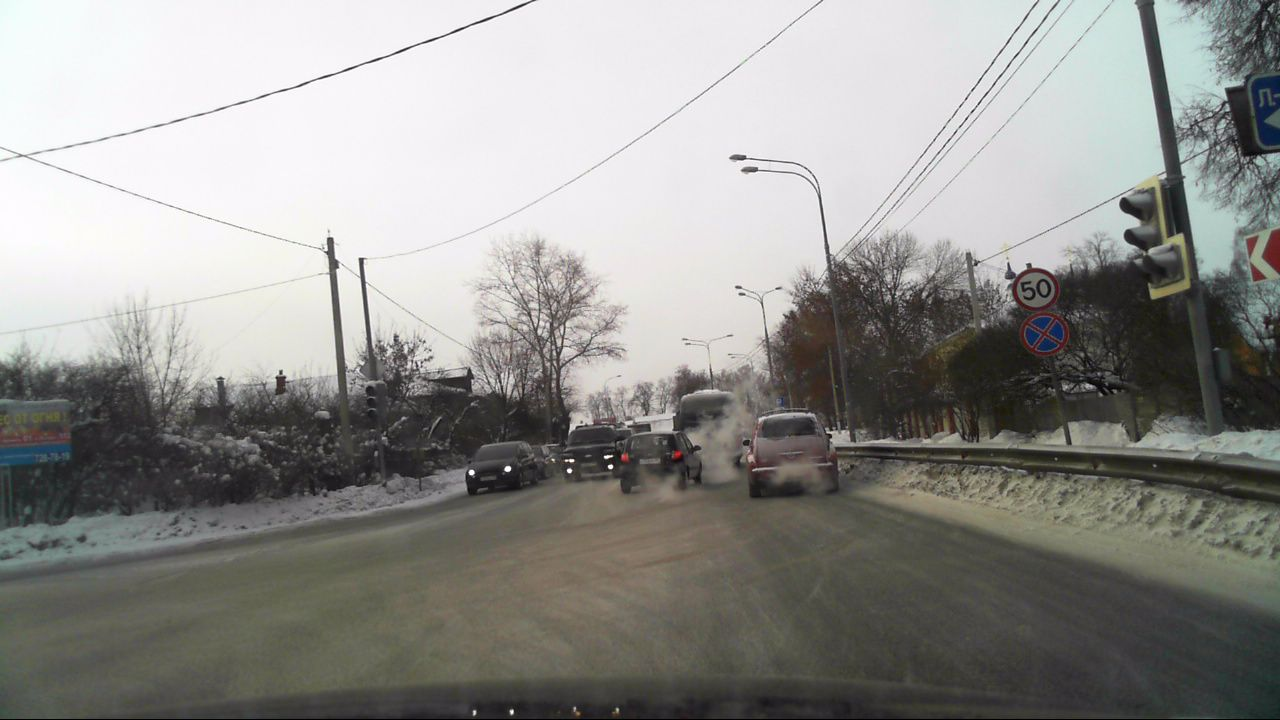No Parking: (1023, 314, 1066, 353)
